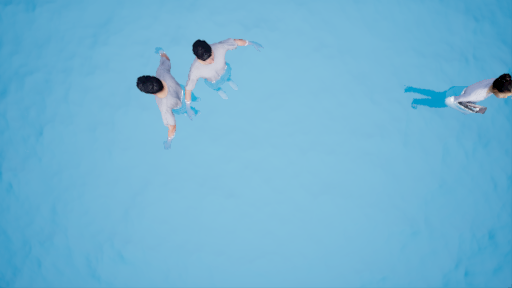person: (182, 27, 260, 113), (146, 42, 203, 148), (402, 73, 512, 113)
